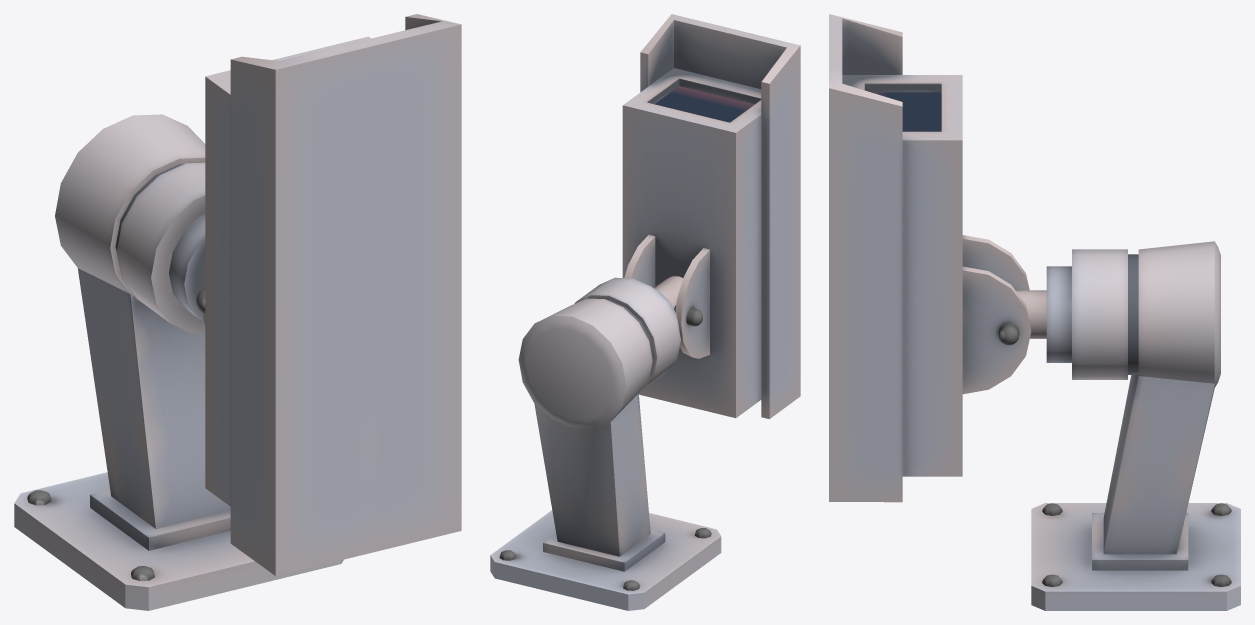
Rendered from cctv_low.fbx.
3 views of the same model, side by side, from view 1: azimuth 30°, elevation 25°; view 2: azimuth 150°, elevation 25°; view 3: azimuth 270°, elevation 25° (orthographic). The views are drawn at different scales.
Visible parts, largest first — view 1: cctv_main_low, cctv_statue_low; view 2: cctv_main_low, cctv_statue_low, cctv_lens_low; view 3: cctv_main_low, cctv_statue_low, cctv_lens_low.
Part boxes in pixels (box(x1,y1,x2,y2)): cctv_main_low: box(196, 14, 461, 575); cctv_statue_low: box(14, 114, 343, 610); cctv_main_low: box(622, 14, 800, 418); cctv_statue_low: box(490, 276, 721, 610); cctv_lens_low: box(655, 86, 754, 122); cctv_main_low: box(829, 14, 1031, 502); cctv_statue_low: box(1016, 241, 1240, 610); cctv_lens_low: box(871, 92, 941, 131).
Size of the model in its own units: 39.2 by 106 by 77.
